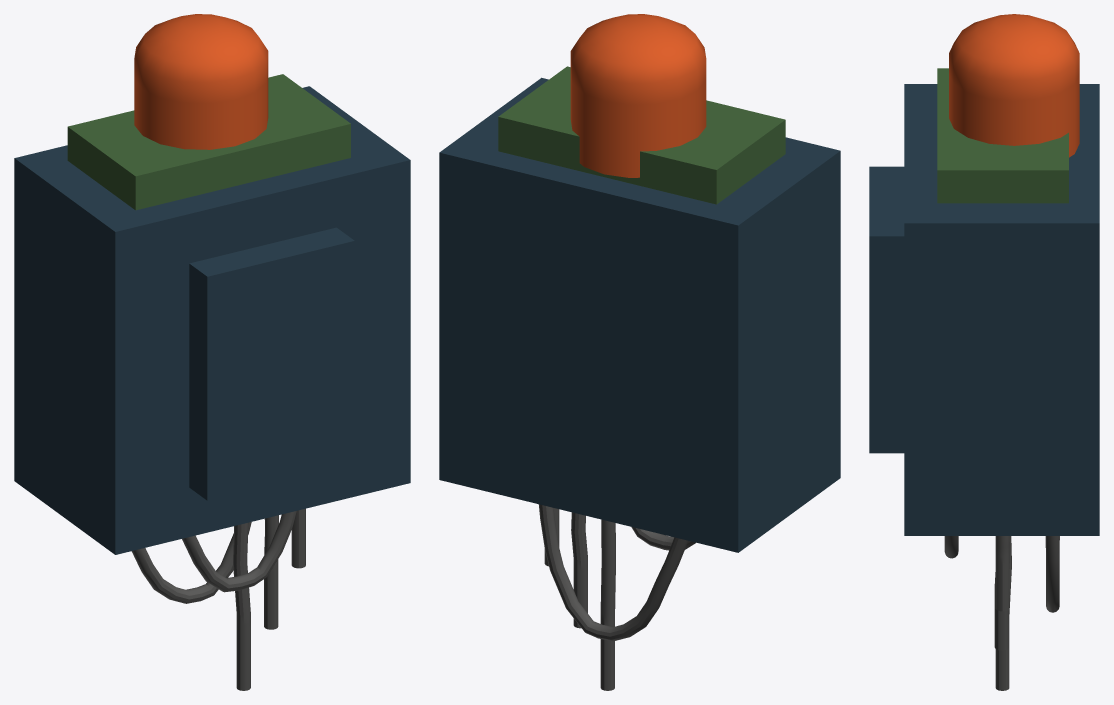
File: WireBox.fbx
The picture shows the model from 3 angles, left to right: view 1: azimuth 30°, elevation 25°; view 2: azimuth 150°, elevation 25°; view 3: azimuth 270°, elevation 25°; orthographic projection. The views are drawn at different scales.
Parts seen in each view (by area): view 1: WireBox; view 2: WireBox; view 3: WireBox.
Boxes of the visible parts, left/top/right/bottom form: WireBox: left=14, top=14, right=410, bottom=690; WireBox: left=439, top=14, right=840, bottom=690; WireBox: left=869, top=14, right=1099, bottom=690.
Size of the model in its own units: 29.71 by 64.24 by 20.76.
